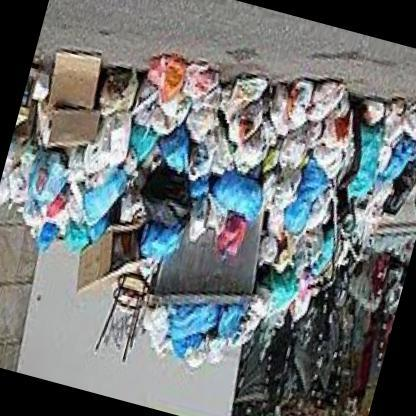Garbage: (52, 18, 294, 266), (247, 27, 415, 383), (0, 34, 150, 276), (79, 46, 213, 212), (138, 293, 256, 394), (12, 145, 74, 217), (208, 154, 272, 223), (277, 164, 327, 250), (340, 124, 386, 212), (144, 46, 204, 113), (178, 199, 212, 249), (214, 214, 248, 259), (158, 132, 192, 177), (202, 194, 226, 239), (186, 334, 212, 372)
